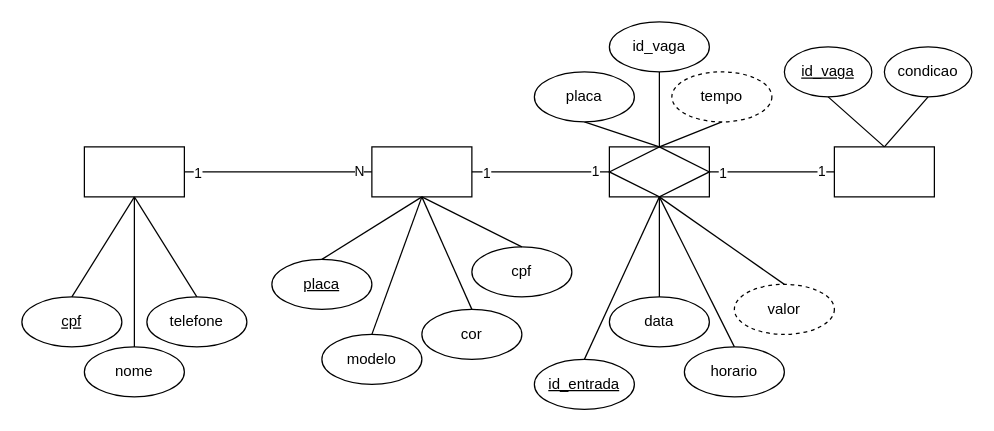
The diagram is 994 pixels wide and 431 high, and some of its shapes have lost their labels. Each missing label, with the centre of its shape:
"Carros" goes at [421,171].
"Clientes" goes at [133,171].
"Entradas" goes at [658,171].
"Vagas" goes at [883,171].
